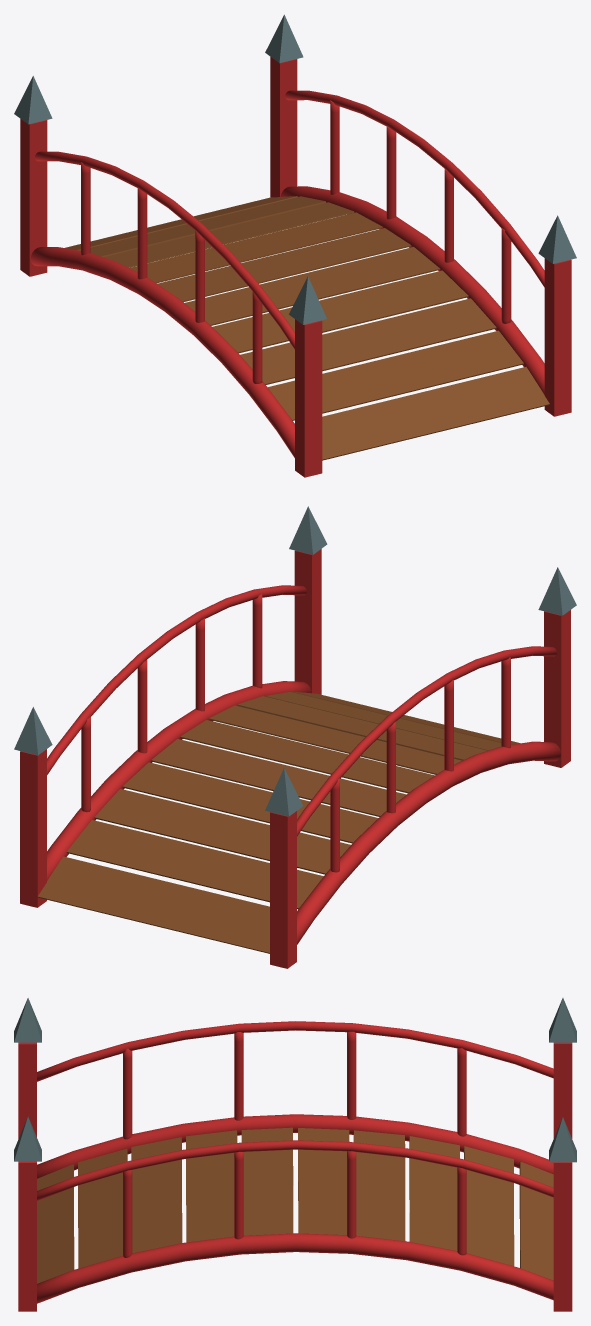
Rendered from bruecke.dae.
The picture shows the model from 3 angles, top to bottom: view 1: azimuth 30°, elevation 25°; view 2: azimuth 150°, elevation 25°; view 3: azimuth 270°, elevation 25°; orthographic projection. The views are drawn at different scales.
Visible parts, largest first — view 1: Quader015, Quader014, Quader013, Tube001, Quader012, Quader011, Quader010, Tube002, Quader009, Quader003, Quader004, Quader001 (+18 smaller); view 2: Quader005, Quader006, Quader008, Tube001, Quader009, Quader010, Quader011, Tube002, Quader012, Quader001, Quader002, Quader003 (+18 smaller); view 3: Tube002, Tube001, Tube004, Tube003, Quader011, Quader013, Quader009, Quader012, Quader008, Quader010, Quader006, Quader014 (+18 smaller).
Part boxes in pixels (x1=…): Quader015: x1=294, y1=366, x2=549, y2=460; Quader014: x1=268, y1=330, x2=523, y2=420; Quader013: x1=240, y1=298, x2=496, y2=384; Tube001: x1=30, y1=247, x2=294, y2=457; Quader012: x1=212, y1=270, x2=468, y2=353; Quader011: x1=184, y1=247, x2=440, y2=325; Quader010: x1=157, y1=228, x2=411, y2=302; Tube002: x1=280, y1=186, x2=544, y2=394; Quader009: x1=129, y1=212, x2=382, y2=283; Quader003: x1=295, y1=319, x2=322, y2=477; Quader004: x1=544, y1=258, x2=571, y2=416; Quader001: x1=20, y1=119, x2=47, y2=276; Quader005: x1=37, y1=856, x2=269, y2=953; Quader006: x1=66, y1=820, x2=323, y2=909; Quader008: x1=94, y1=789, x2=350, y2=874; Tube001: x1=297, y1=741, x2=560, y2=944; Quader009: x1=122, y1=762, x2=378, y2=843; Quader010: x1=151, y1=739, x2=406, y2=816; Quader011: x1=180, y1=720, x2=434, y2=793; Tube002: x1=47, y1=681, x2=311, y2=880; Quader012: x1=208, y1=705, x2=461, y2=774; Quader001: x1=270, y1=811, x2=296, y2=968; Quader002: x1=20, y1=749, x2=46, y2=907; Quader003: x1=544, y1=610, x2=570, y2=767; Tube002: x1=37, y1=1233, x2=553, y2=1303; Tube001: x1=37, y1=1114, x2=553, y2=1178; Tube004: x1=37, y1=1140, x2=553, y2=1200; Tube003: x1=37, y1=1021, x2=553, y2=1081; Quader011: x1=241, y1=1127, x2=293, y2=1235; Quader013: x1=131, y1=1137, x2=182, y2=1253; Quader009: x1=353, y1=1130, x2=405, y2=1241; Quader012: x1=186, y1=1130, x2=237, y2=1242; Quader008: x1=409, y1=1136, x2=459, y2=1250; Quader010: x1=298, y1=1128, x2=349, y2=1234; Quader006: x1=464, y1=1146, x2=514, y2=1266; Quader014: x1=78, y1=1148, x2=127, y2=1268.
Size of the model in its own units: 1.68 by 3.05 by 1.14.
